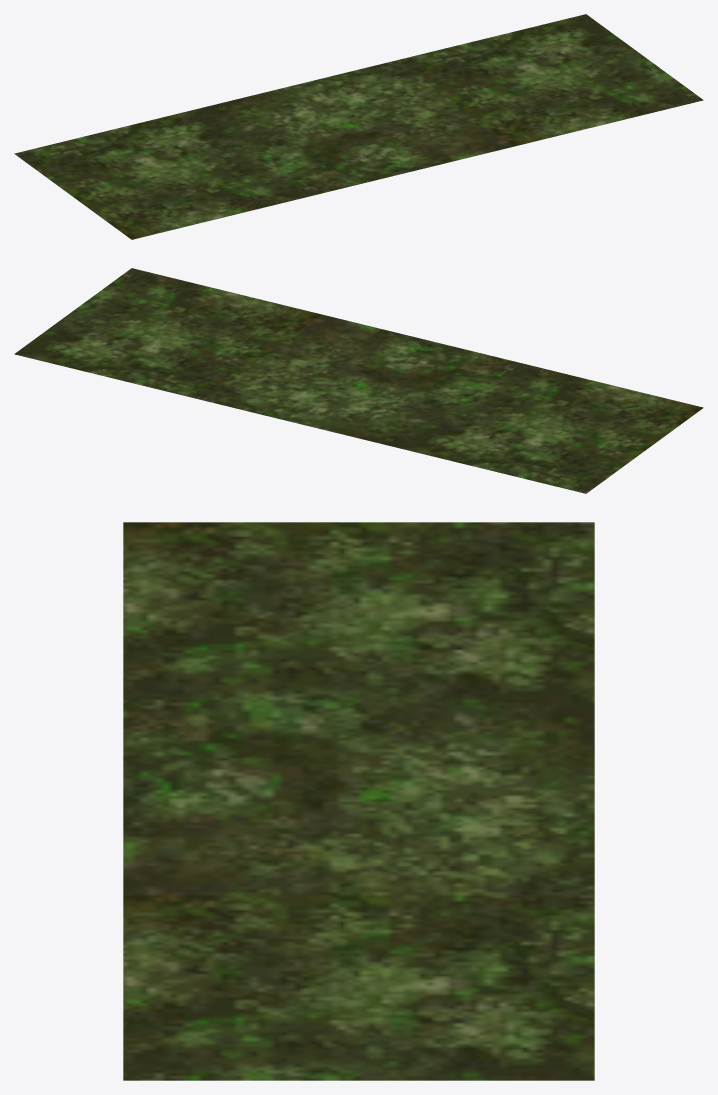
The model's file is OVERHILL_A_01_LINE181.fbx.
3 views of the same model, one above another, from view 1: azimuth 30°, elevation 25°; view 2: azimuth 150°, elevation 25°; view 3: azimuth 270°, elevation 25° (orthographic). The views are drawn at different scales.
Parts seen in each view (by area): view 1: OVERHILL_A_01_LINE181; view 2: OVERHILL_A_01_LINE181; view 3: OVERHILL_A_01_LINE181.
Boxes of the visible parts, box(x1,y1,x2,y2) form: OVERHILL_A_01_LINE181: box(14, 14, 703, 239); OVERHILL_A_01_LINE181: box(14, 268, 703, 493); OVERHILL_A_01_LINE181: box(123, 522, 594, 1080).
Bounding box in the file's own units: 56088 × 0.00326 × 20000.
1 material, 1 textured.
